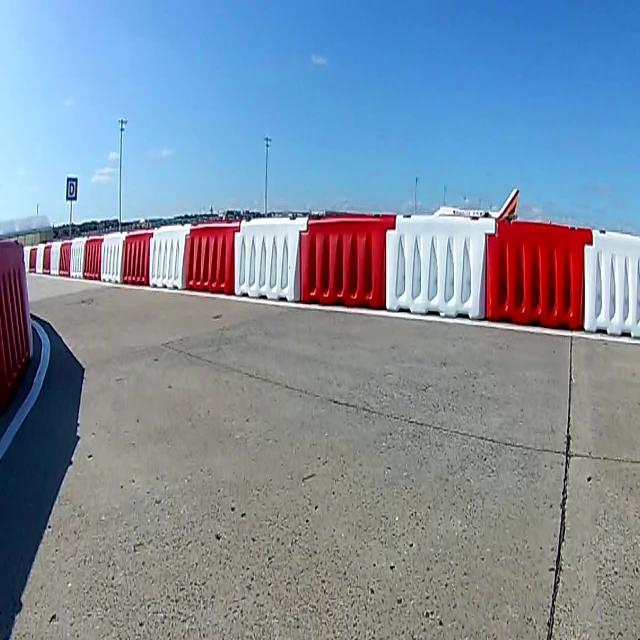durak: (66, 177, 78, 202)
